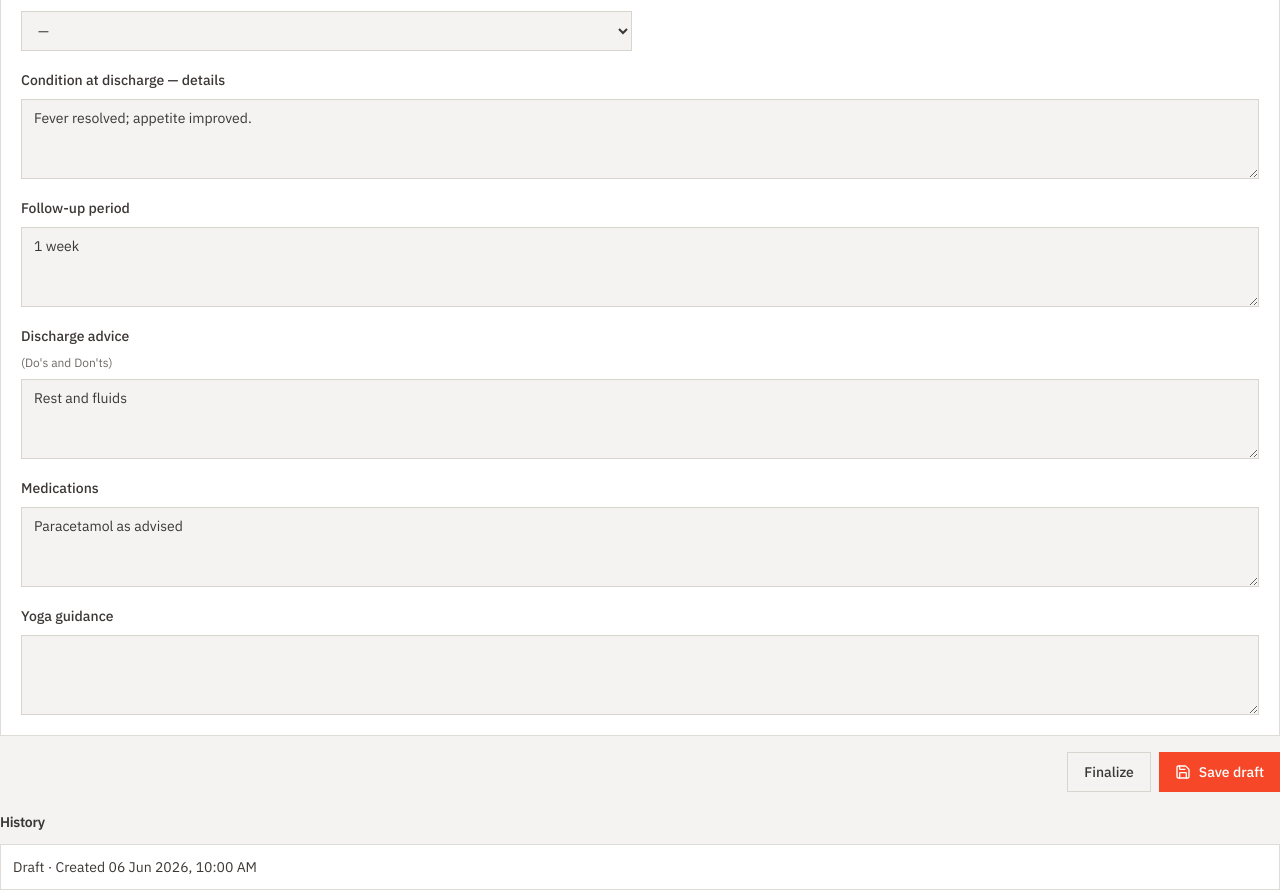
it: DischargeSummaryTab › shows current draft and finalizes with confirmation
The image size is (1280, 890).
(page scrolled)
Click the button "Finalize" at (1109, 772), box [1067, 752, 1151, 792]
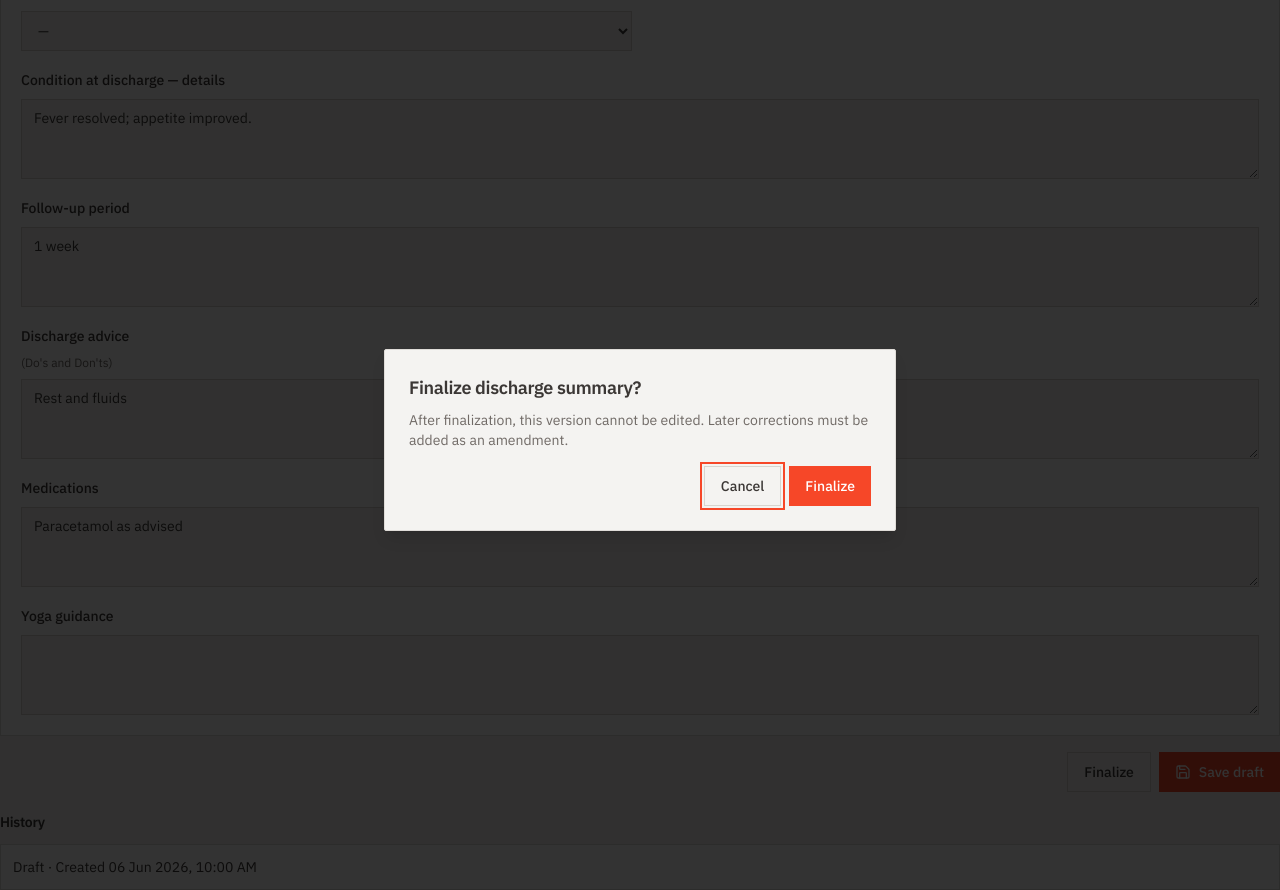
Click the button "Finalize" at (830, 486), box [789, 466, 871, 506]
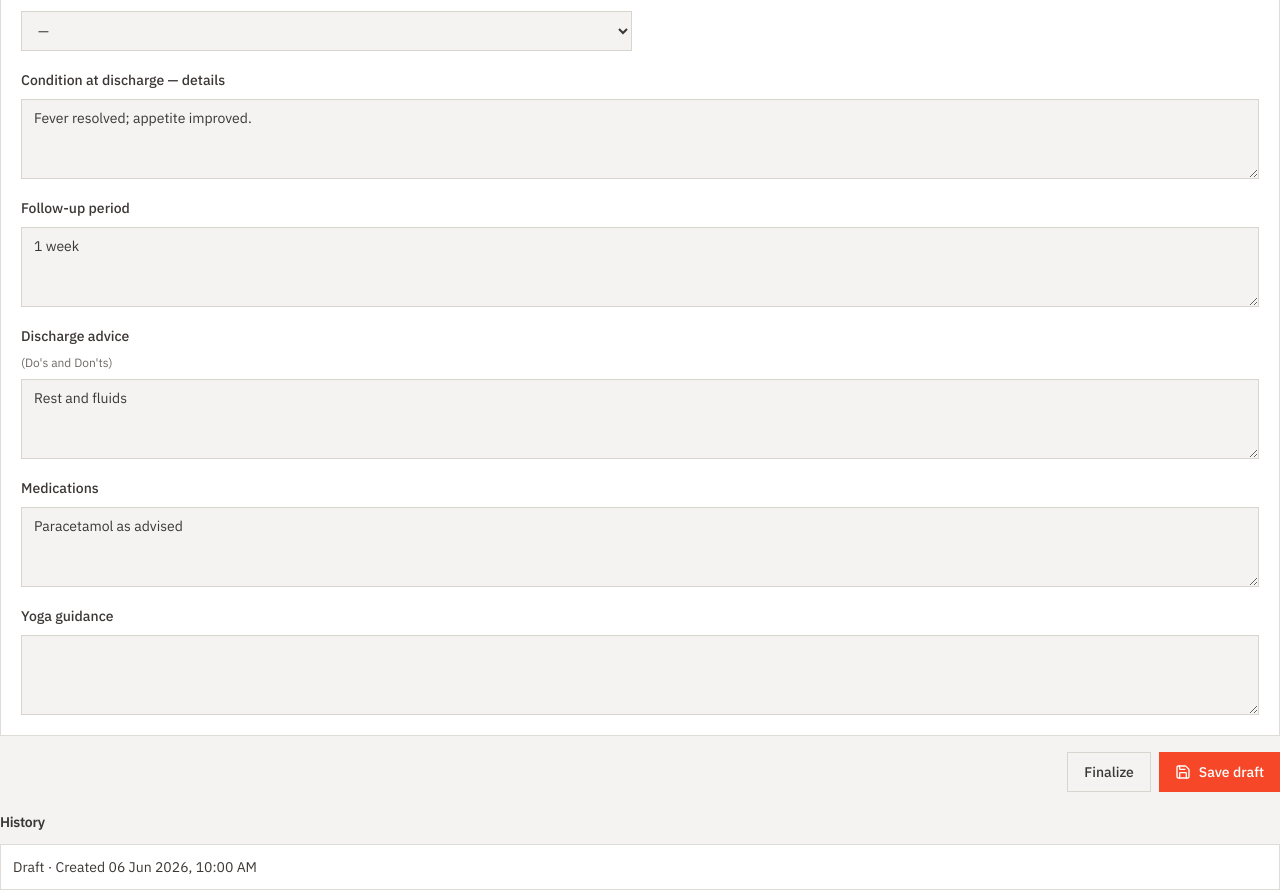
Expected: the text "After finalization" is gone
